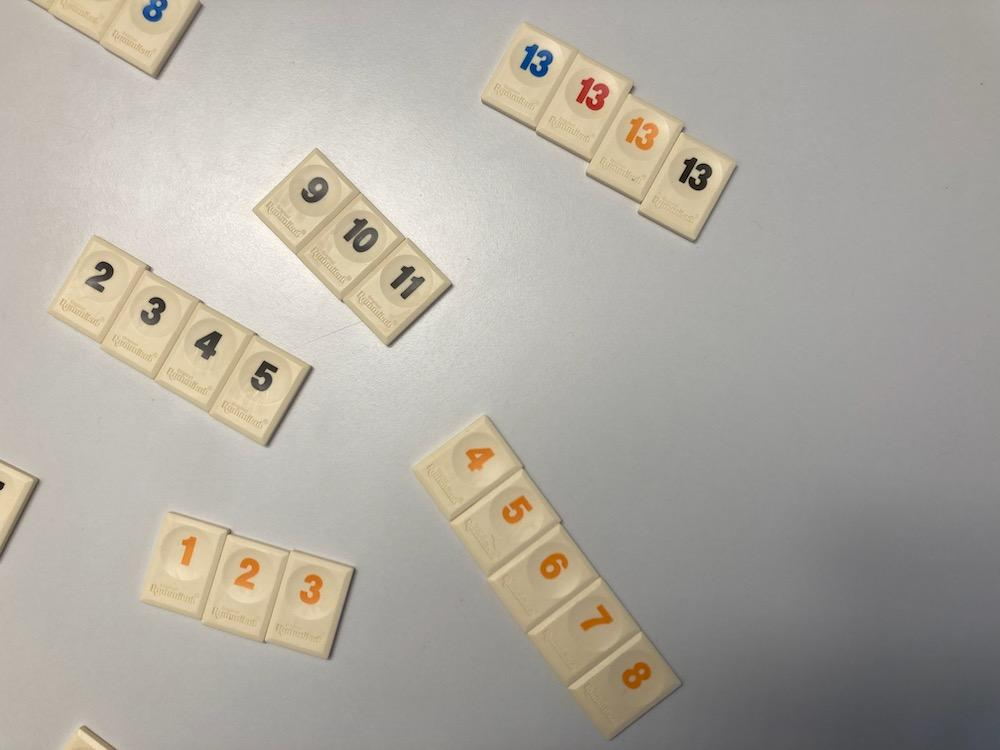black_10: (299, 193, 402, 299)
black_11: (344, 240, 451, 344)
black_13: (639, 133, 736, 240)
black_2: (50, 236, 146, 342)
black_3: (102, 271, 197, 377)
black_4: (156, 305, 252, 408)
black_5: (212, 336, 311, 445)
black_9: (254, 148, 357, 252)
blue_13: (480, 23, 578, 129)
blue_8: (100, 0, 199, 76)
orange_1: (142, 512, 229, 619)
orange_13: (586, 94, 684, 201)
orange_2: (201, 535, 287, 641)
orange_3: (266, 551, 354, 658)
orange_4: (414, 416, 521, 520)
orange_5: (451, 469, 559, 574)
orange_6: (490, 525, 598, 631)
orange_7: (531, 578, 639, 686)
orange_8: (570, 633, 682, 740)
red_13: (537, 53, 633, 160)
